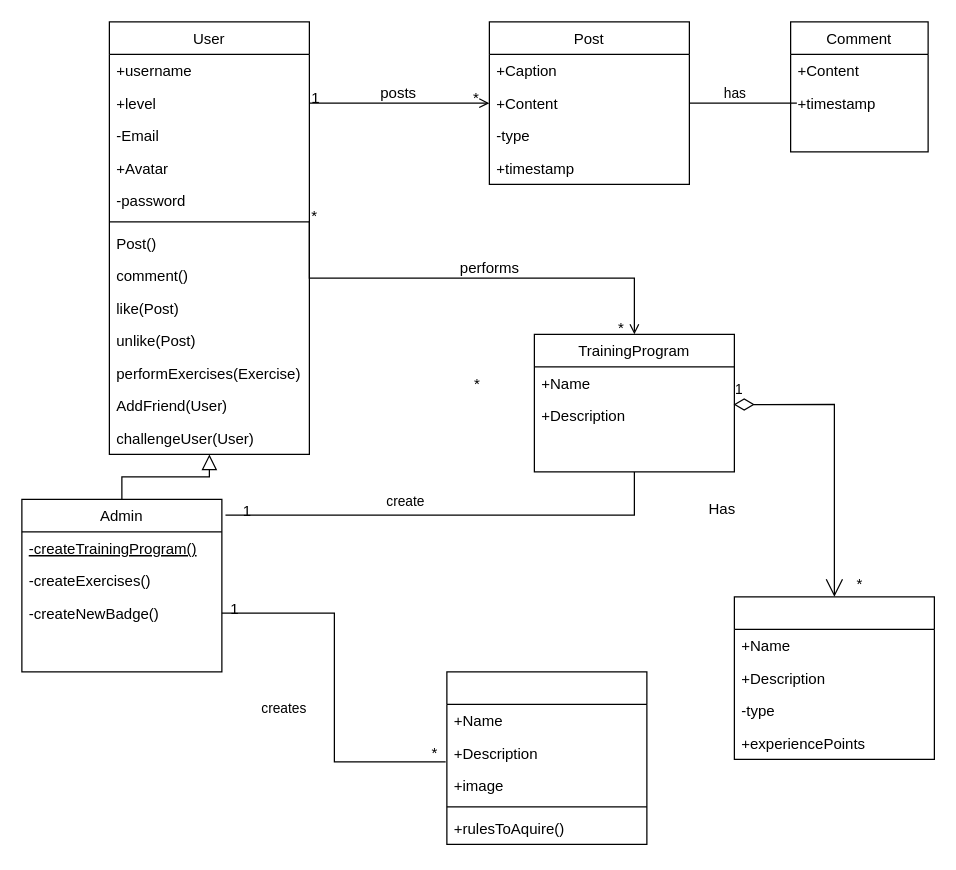
The diagram is 956 pixels wide and 870 high, and some of its shapes have lost their labels. Here are the shapes that lost their labels. From the top down, the box of each, then its label:
(733, 596, 934, 759): Exercise
(446, 671, 647, 844): Badge
